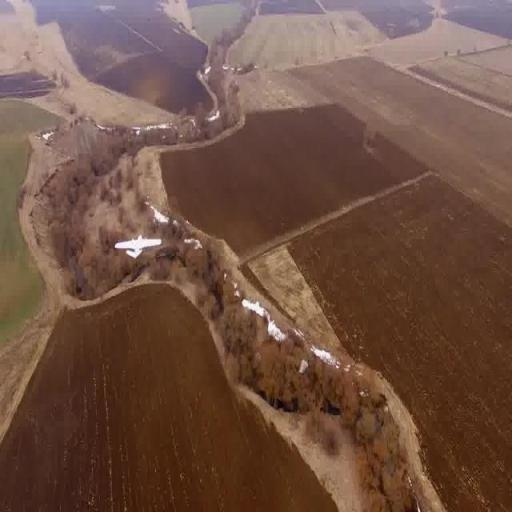uav: (110, 230, 166, 272)
